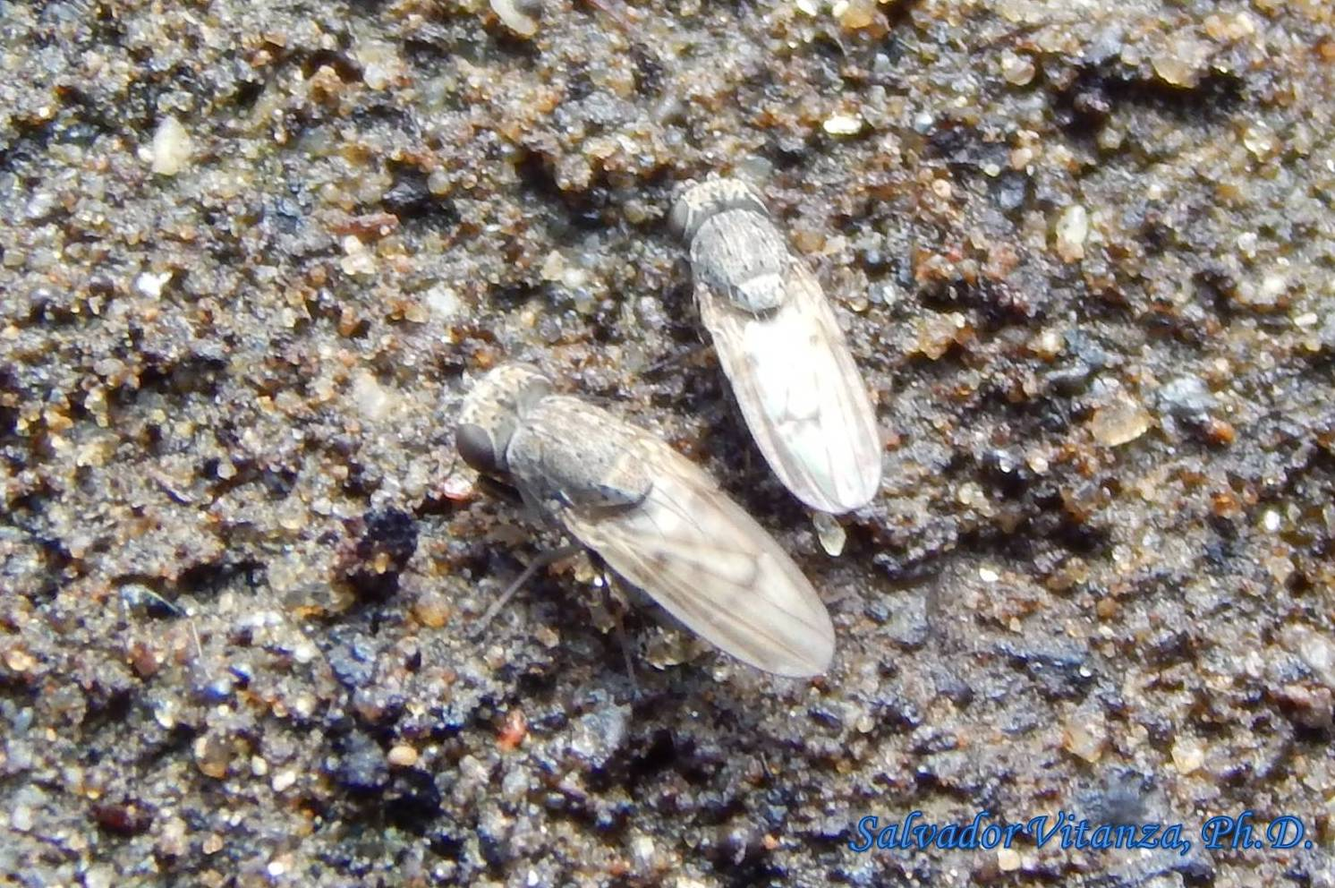Ephydridae: (449, 354, 842, 708), (654, 179, 894, 515)
